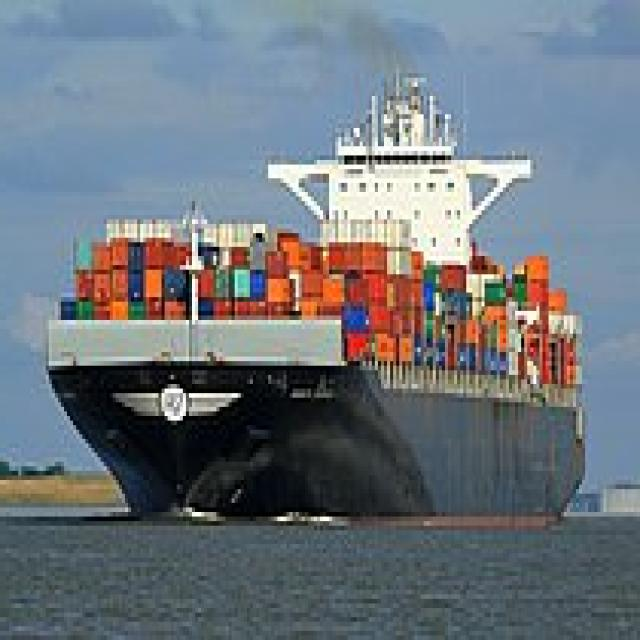Cargo: (46, 55, 594, 526)
